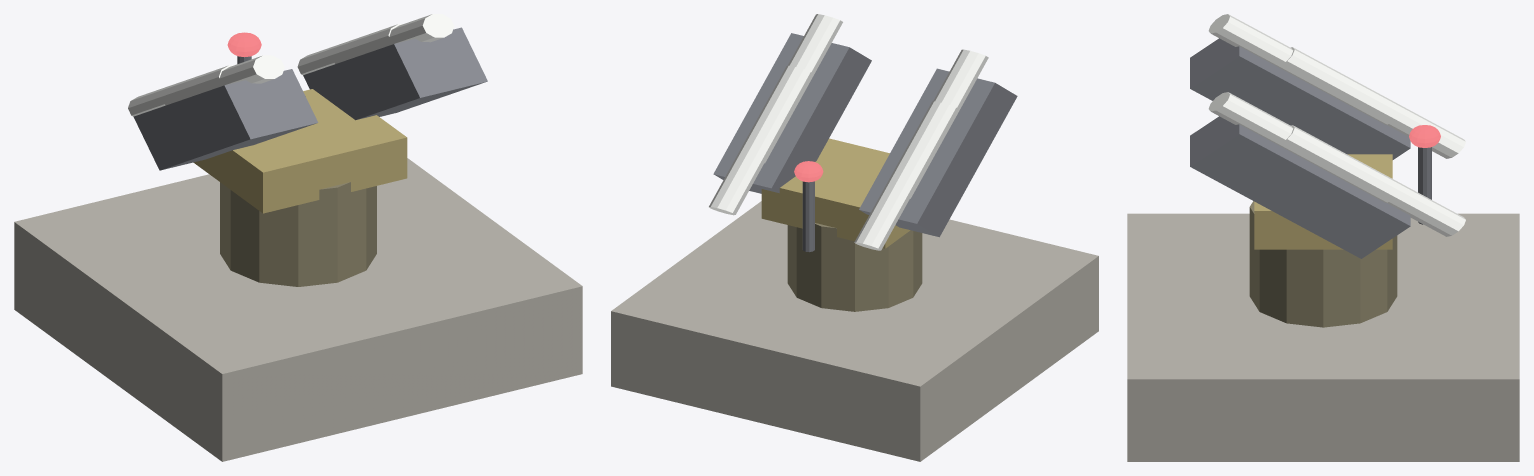
Rendered from dm_aa_tower.glb.
3 renders of one model, left to right at view 1: azimuth 30°, elevation 25°; view 2: azimuth 150°, elevation 25°; view 3: azimuth 270°, elevation 25°, orthographic. The views are drawn at different scales.
Parts seen in each view (by area): view 1: model; view 2: model; view 3: model.
Boxes of the visible parts, x1,y1,x2,y2 form: model: [14, 14, 582, 461]; model: [611, 14, 1098, 461]; model: [1127, 14, 1519, 461].
Size of the model in its own units: 0.95 by 0.8649 by 0.95.
